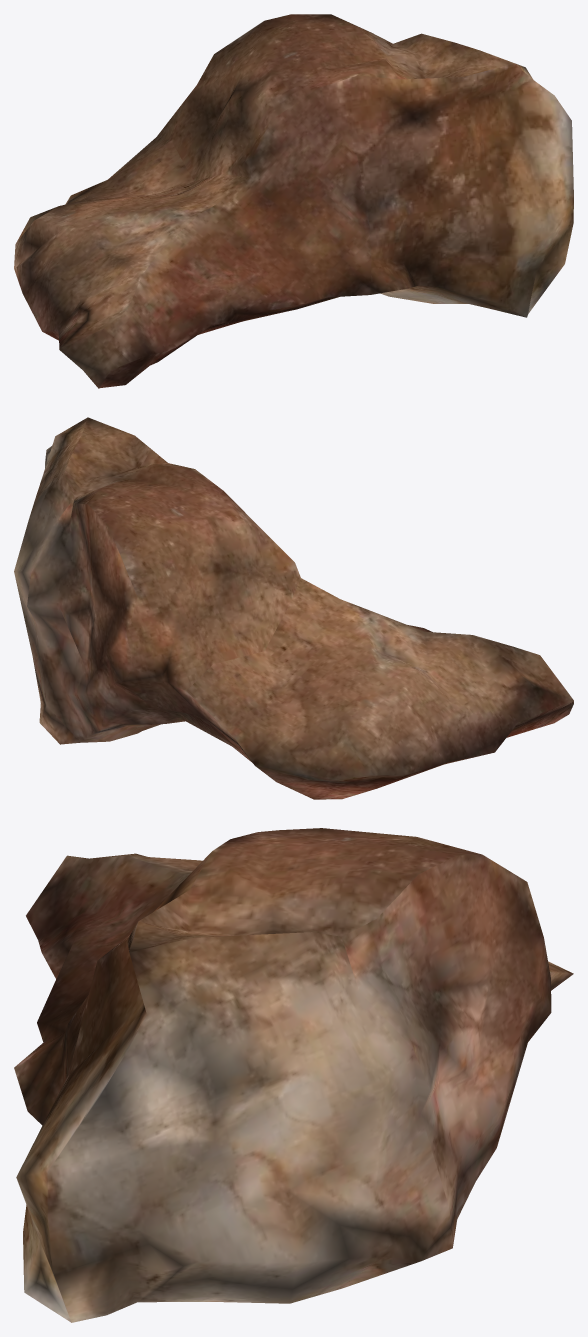
Rendered from stone_01.glb.
The picture shows the model from 3 angles, top to bottom: view 1: azimuth 30°, elevation 25°; view 2: azimuth 150°, elevation 25°; view 3: azimuth 270°, elevation 25°; orthographic projection. The views are drawn at different scales.
Visible parts, largest first — view 1: a_lod0; view 2: a_lod0; view 3: a_lod0.
Boxes of the visible parts, left/top/right/bottom form: a_lod0: left=14, top=14, right=573, bottom=388; a_lod0: left=14, top=417, right=573, bottom=799; a_lod0: left=14, top=828, right=573, bottom=1322.
Size of what is drawn, in the model's own units: 0.1462 by 0.0688 by 0.0875.
1 material, 1 textured.
